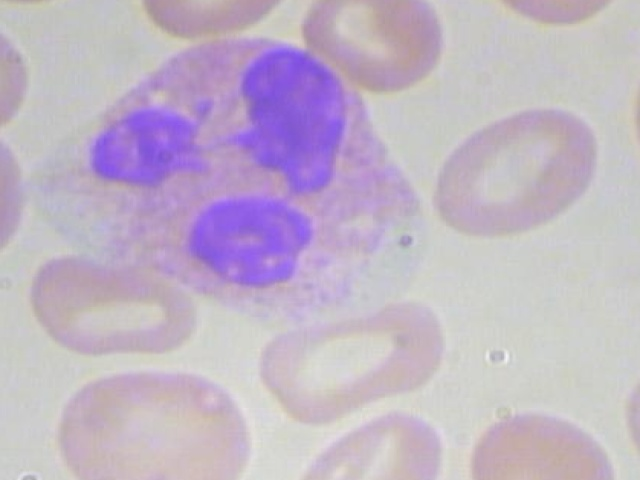RBC: (425, 91, 625, 247), (240, 297, 454, 425), (52, 360, 253, 480), (15, 246, 201, 363), (301, 0, 447, 98), (457, 400, 625, 480), (283, 403, 451, 480), (137, 0, 294, 42), (478, 0, 634, 42), (0, 7, 43, 145), (603, 35, 640, 191), (0, 117, 30, 273), (617, 348, 640, 480)
WBC: (41, 26, 474, 318)
